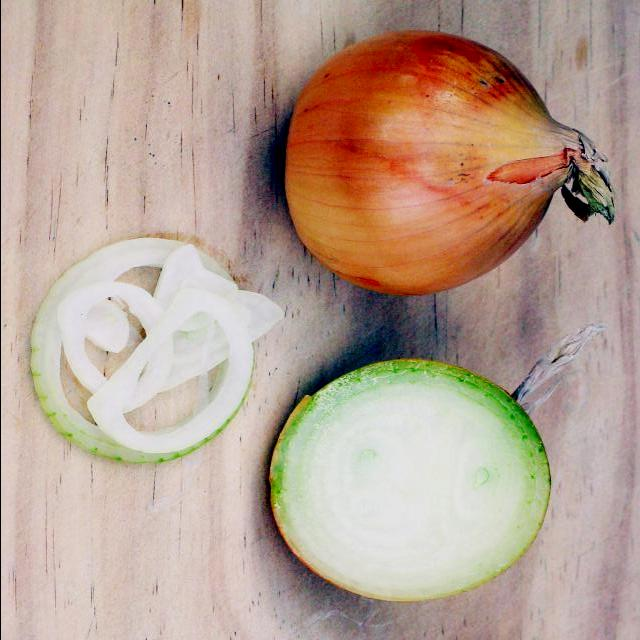onion: (266, 30, 597, 296), (266, 353, 558, 604)
